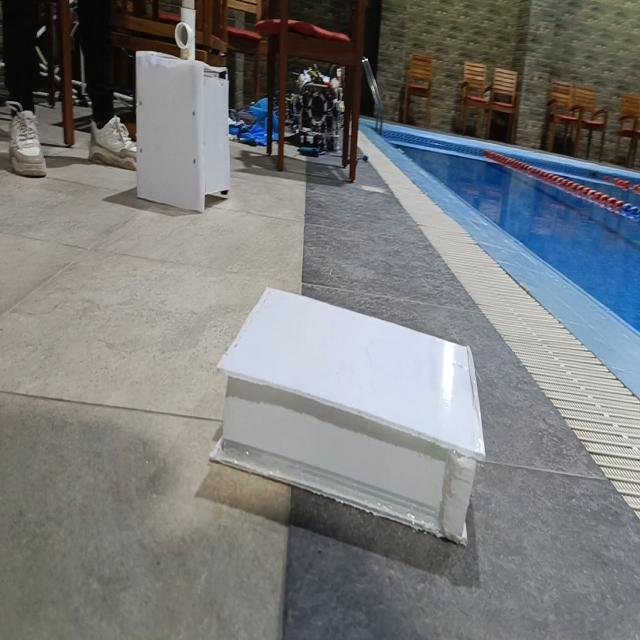Cube: (134, 48, 230, 213)
Cuboid: (209, 283, 486, 547)
